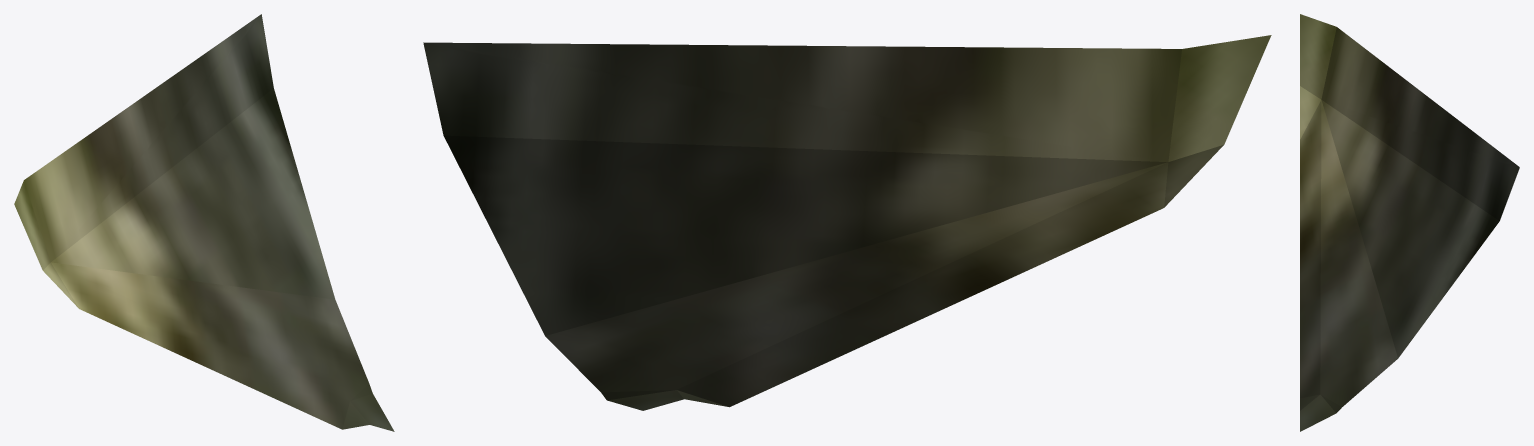
The picture shows the model from 3 angles, left to right: view 1: azimuth 30°, elevation 25°; view 2: azimuth 150°, elevation 25°; view 3: azimuth 270°, elevation 25°; orthographic projection. The views are drawn at different scales.
Size of the model in its own units: 0.6199 by 0.4989 by 0.3753.
Materials: 1 (1 with a texture image).
